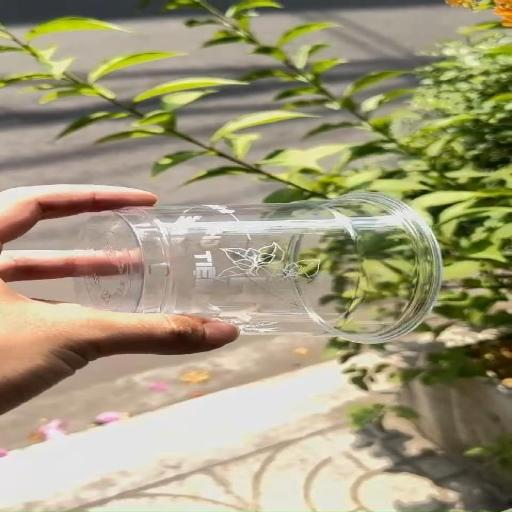ly_giay: (74, 191, 442, 343)
